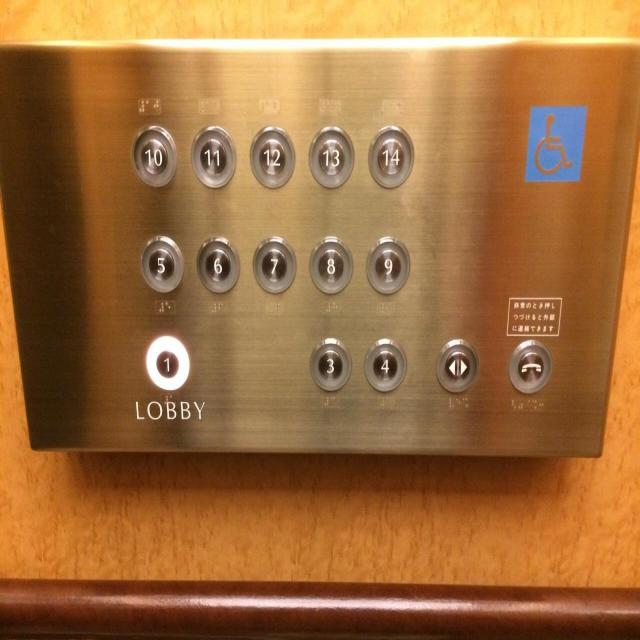1: (146, 332, 192, 391)
10: (129, 122, 177, 192)
11: (190, 124, 240, 191)
12: (248, 122, 298, 191)
13: (308, 127, 358, 192)
14: (366, 124, 414, 188)
3: (310, 337, 354, 395)
4: (363, 336, 405, 392)
5: (139, 232, 185, 296)
6: (195, 236, 242, 292)
7: (252, 231, 296, 294)
8: (307, 236, 353, 296)
9: (363, 234, 411, 297)
CH: (524, 100, 588, 184)
call: (506, 339, 554, 397)
open: (435, 337, 478, 395)
